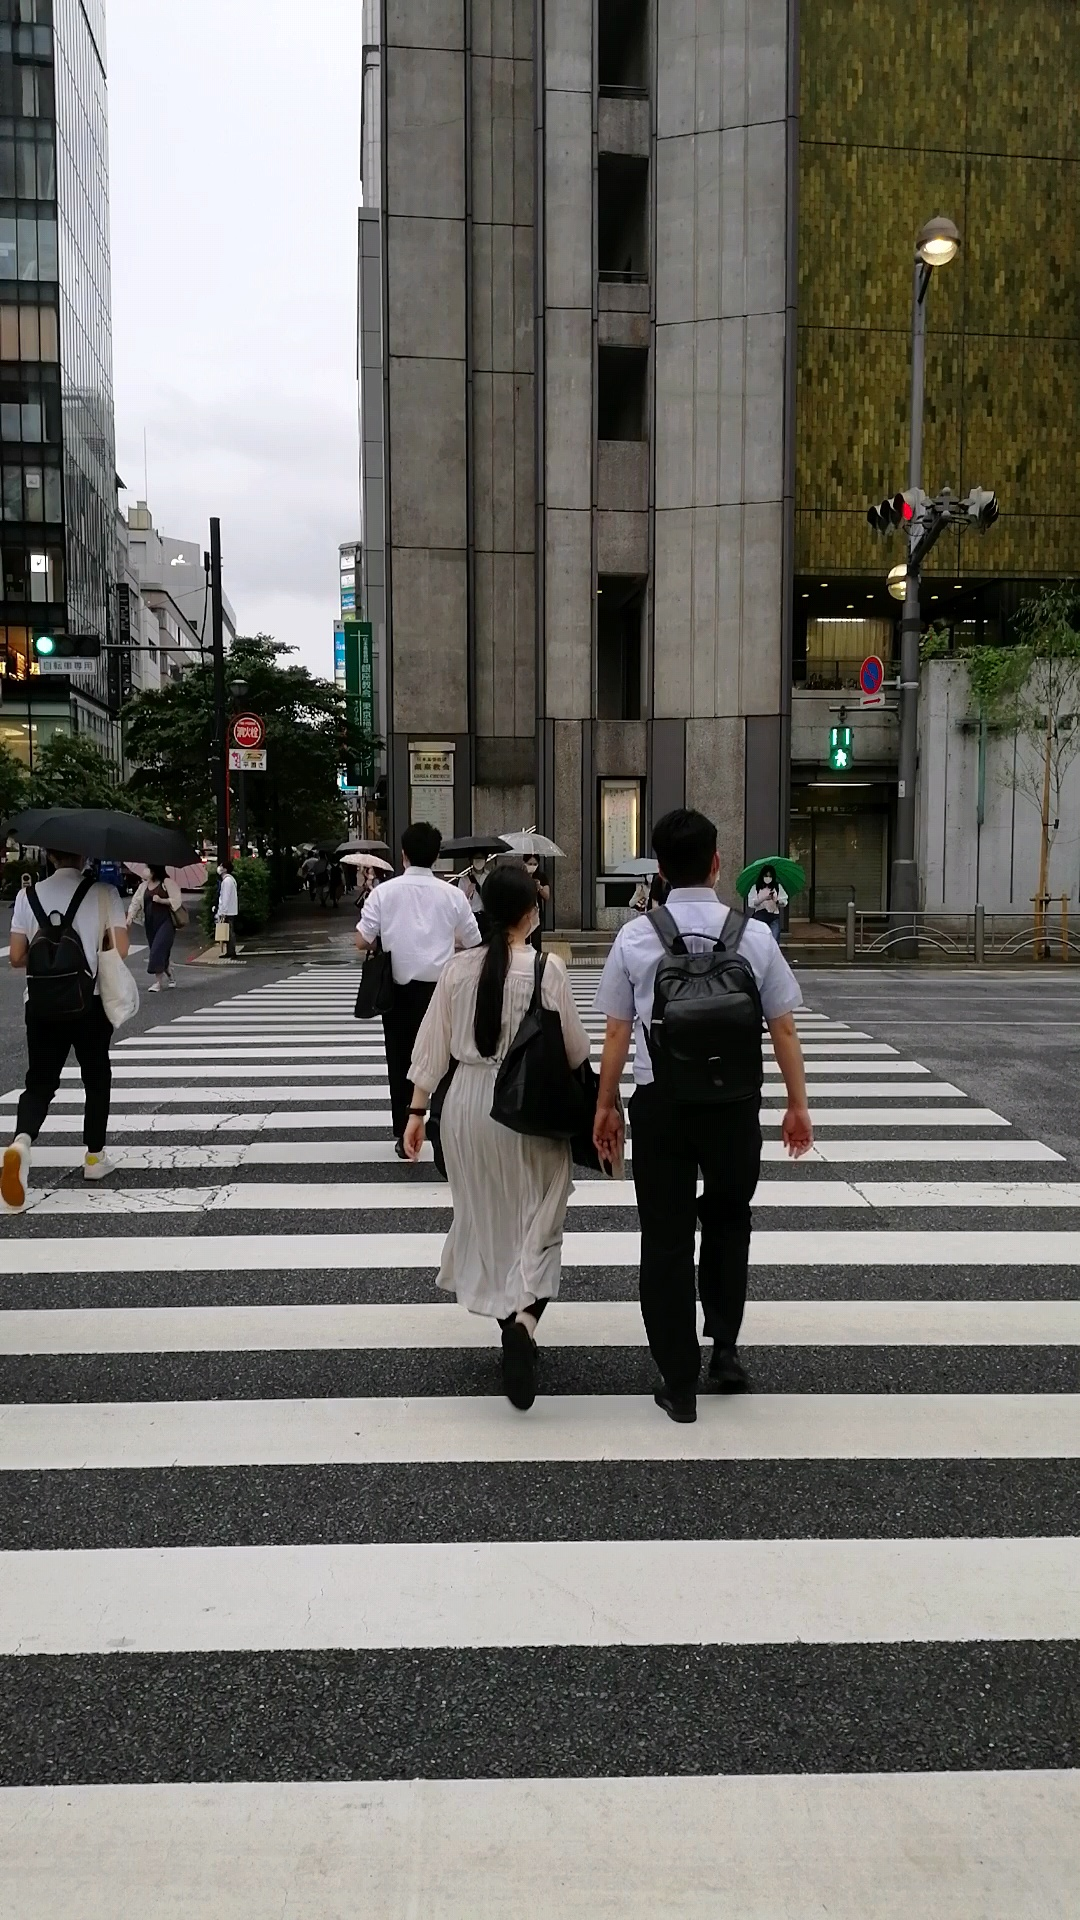green: (829, 725, 853, 771)
